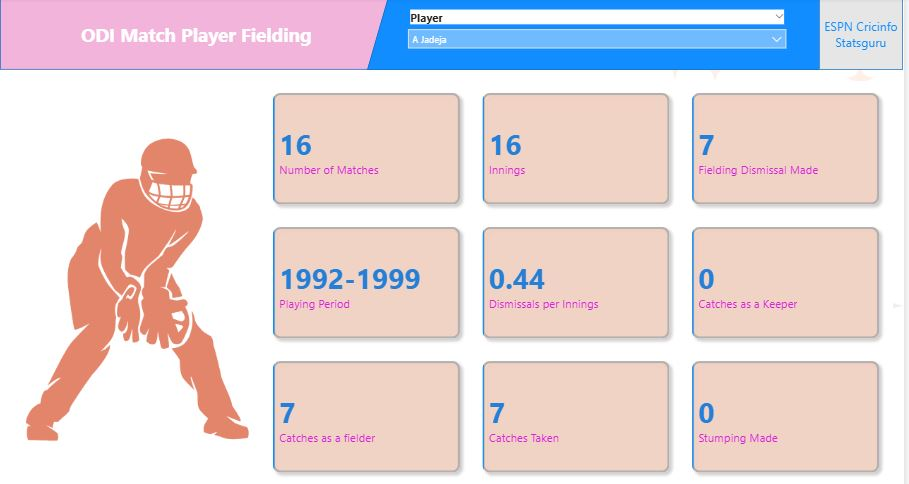

The page's visual inventory and layout, read from the dashboard file:
{"tool":"powerbi","page":{"name":"Fielding","canvas":[1280,720],"ordinal":2},"visuals":[{"type":"shape","box":[0,0,556.3,101.5],"z":0},{"type":"shape","box":[520.2,0,759.7,102],"z":1},{"type":"shape","box":[1160.8,0,119.1,102],"z":2},{"type":"slicer","fields":{"Values":["Fielding.Player"]},"box":[568.3,11.3,555.6,79.4],"z":3},{"type":"cardVisual","fields":{"Data":["Fielding.Mat","Fielding.Inns","Fielding.Dis","Fielding.Span","Fielding.D/I","Fielding.Ct Wk","Fielding.Ct Fi","Fielding.Ct","Fielding.St"]},"box":[369.9,117.6,895.7,572.6],"z":4}]}

Visuals, with their boxes on the page's 1280x720 design canvas (x1, y1, x2, y2). These are canvas units, not pixel positions in the 909x484 screenshot, which may show the page scaled, cropped or inside an application window:
shape: box(0, 0, 556, 102)
shape: box(520, 0, 1280, 102)
shape: box(1161, 0, 1280, 102)
slicer - Fielding.Player: box(568, 11, 1124, 91)
cardVisual - Fielding.Mat x Fielding.Inns: box(370, 118, 1266, 690)
